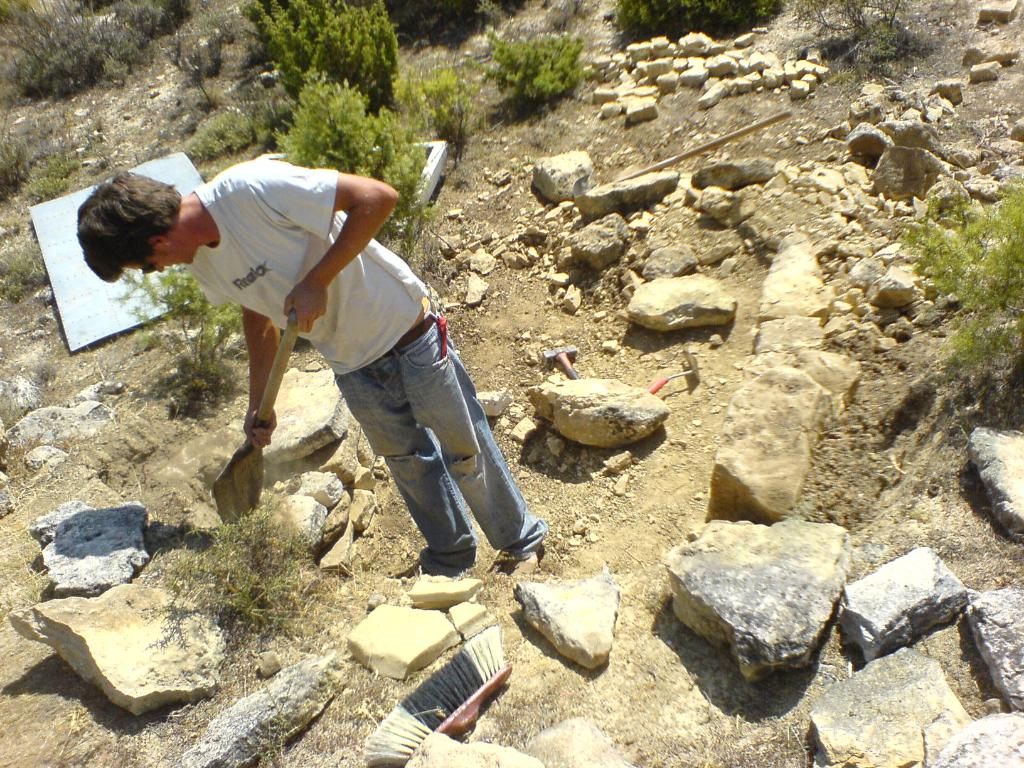Person: (76, 159, 548, 576)
